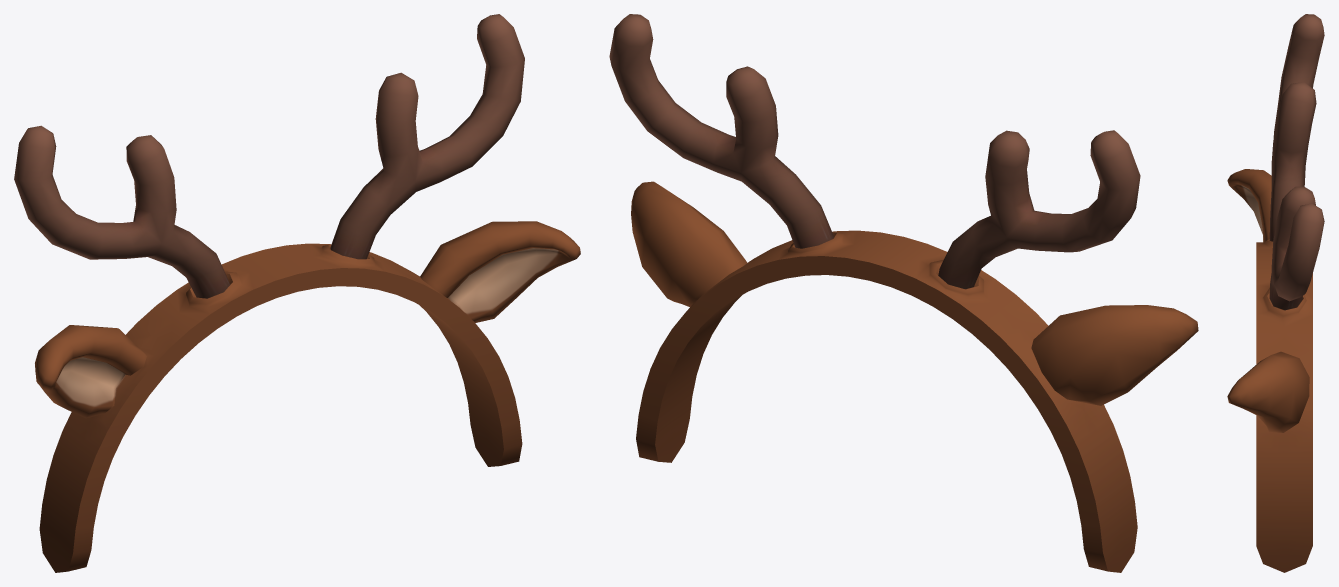
File: DeerEar.FBX
3 views of the same model, side by side, from view 1: azimuth 30°, elevation 25°; view 2: azimuth 150°, elevation 25°; view 3: azimuth 270°, elevation 25° (orthographic). The views are drawn at different scales.
Parts seen in each view (by area): view 1: DeerEar; view 2: DeerEar; view 3: DeerEar.
Part boxes in pixels (left/top/right/bottom): DeerEar: left=14, top=14, right=580, bottom=572; DeerEar: left=609, top=14, right=1198, bottom=572; DeerEar: left=1227, top=14, right=1324, bottom=572.
Size of the model in its own units: 37.51 by 28.98 by 6.92.
Materials: 1 (1 with a texture image).
